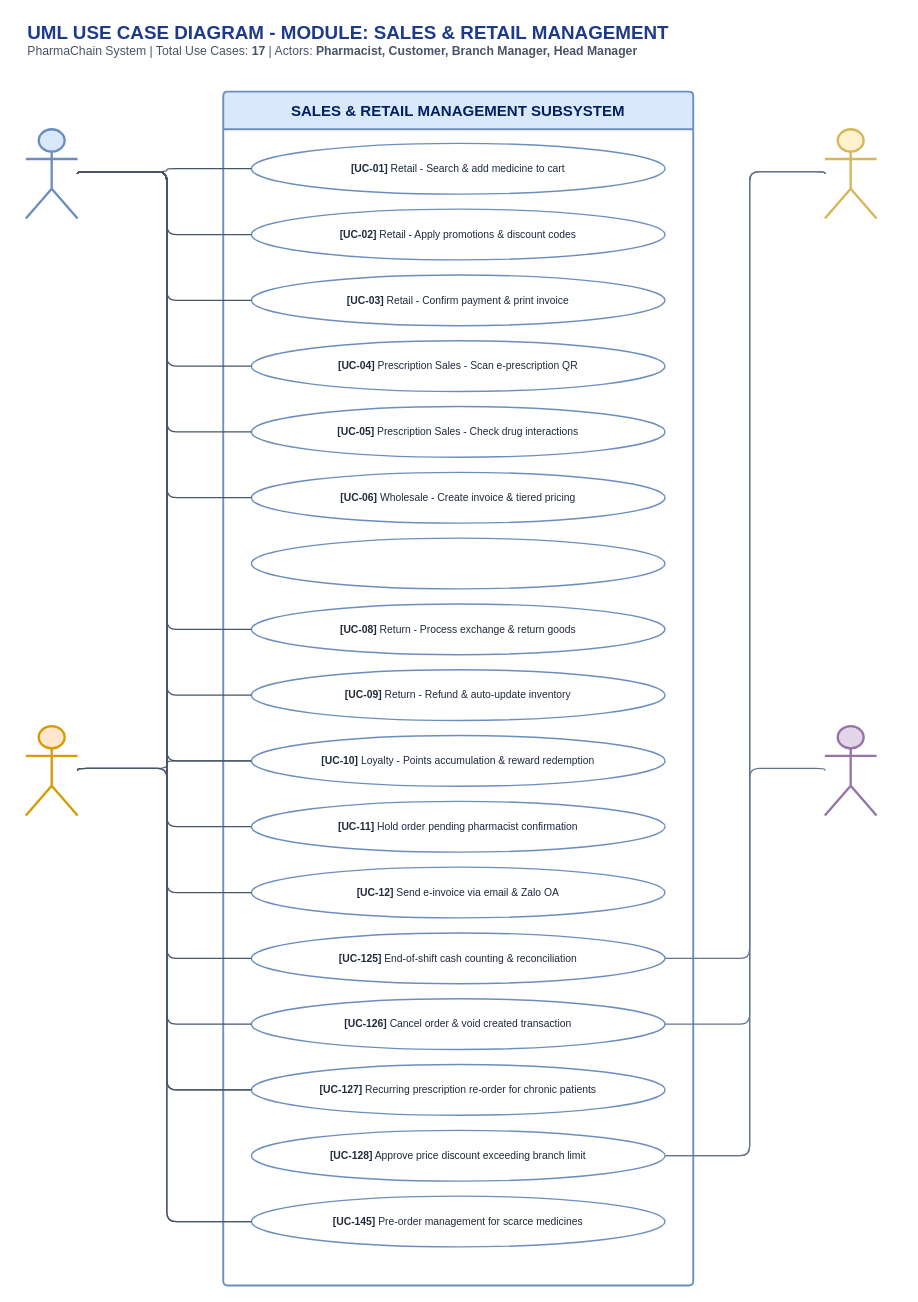
This 918x1302 diagram has some shape labels left out. The centre of each missing label's shape, as x and y in pixels:
[UC-07] Wholesale - Manage agency debt limit: (457,563)
Branch Manager (Quản lý Chi nhánh): (850,173)
Customer (Khách hàng): (51,770)
Head Manager (Quản lý Chuỗi/Tổng): (850,770)
Pharmacist (Dược sĩ): (51,173)
